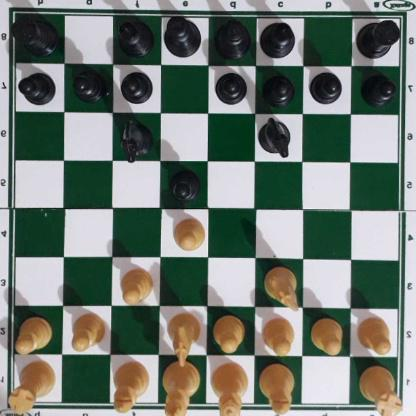black-bishop: (116, 17, 156, 55), (259, 22, 299, 59)
black-king: (164, 14, 205, 55)
black-knight: (120, 117, 154, 161), (260, 116, 292, 155)
black-pawn: (20, 69, 56, 105), (169, 166, 202, 201), (121, 67, 153, 103), (217, 68, 248, 105), (311, 69, 343, 104), (74, 67, 105, 102), (363, 72, 396, 104), (264, 71, 294, 106)
black-queen: (214, 18, 252, 59)
black-rook: (15, 10, 58, 55), (357, 16, 404, 57)
white-bishop: (257, 364, 297, 416), (114, 361, 151, 411)
white-king: (162, 358, 200, 414)
white-knight: (166, 311, 202, 367), (265, 263, 301, 309)
white-pawn: (16, 313, 53, 352), (70, 310, 106, 350), (358, 314, 393, 354), (311, 315, 346, 353), (121, 266, 156, 304), (262, 316, 296, 354), (214, 312, 247, 351), (174, 215, 207, 250)
white-queen: (212, 361, 250, 416)
white-rook: (11, 358, 54, 414), (361, 360, 401, 416)
